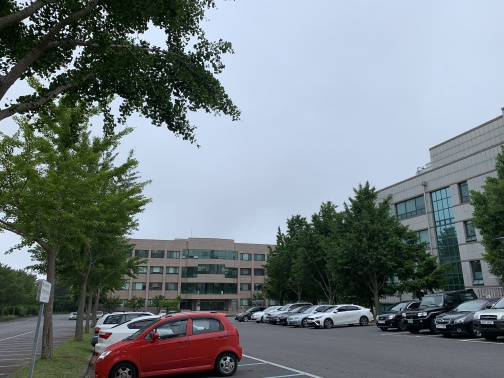Joint Experimental Labs: (111, 235, 273, 316)
Second Library: (375, 105, 504, 289)
